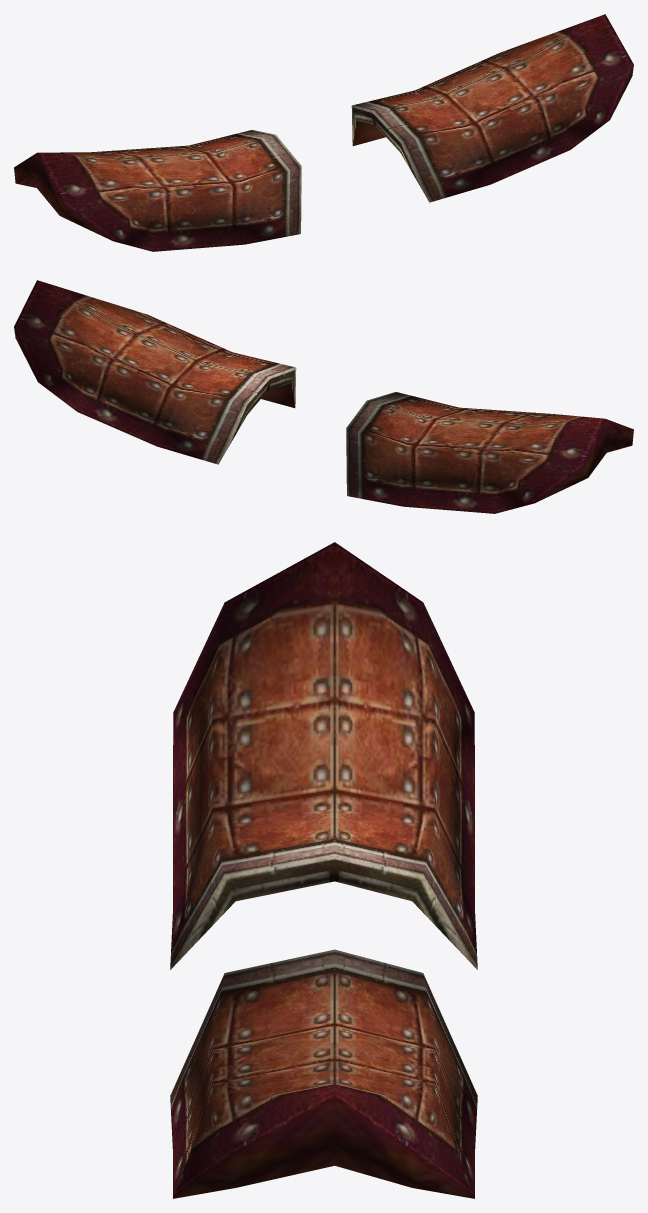
Rendered from heavy_01_sa.glb.
3 renders of one model, top to bottom at view 1: azimuth 30°, elevation 25°; view 2: azimuth 150°, elevation 25°; view 3: azimuth 270°, elevation 25°, orthographic. The views are drawn at different scales.
Parts seen in each view (by area): view 1: Heavy_01_sa; view 2: Heavy_01_sa; view 3: Heavy_01_sa.
Boxes of the visible parts, x1=… form: Heavy_01_sa: x1=14, y1=14, x2=633, y2=251; Heavy_01_sa: x1=14, y1=280, x2=633, y2=513; Heavy_01_sa: x1=170, y1=542, x2=477, y2=1198.
Size of the model in its own units: 0.5947 by 0.1047 by 0.1384.
Materials: 1 (1 with a texture image).
